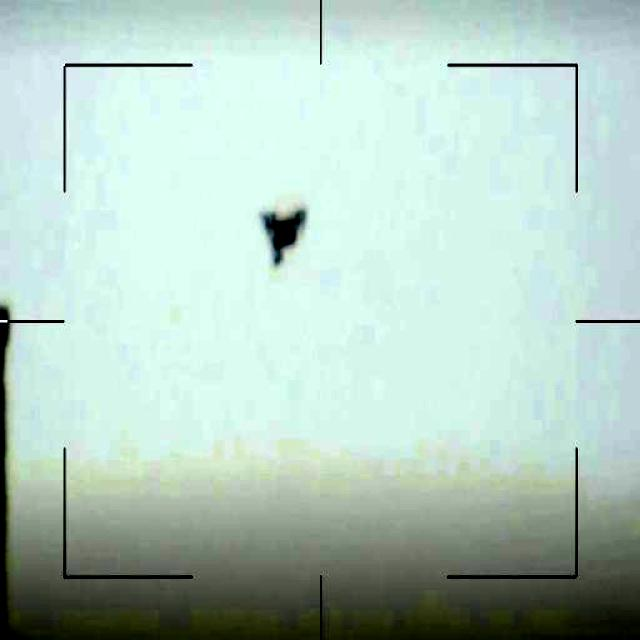bird: (255, 204, 311, 272)
